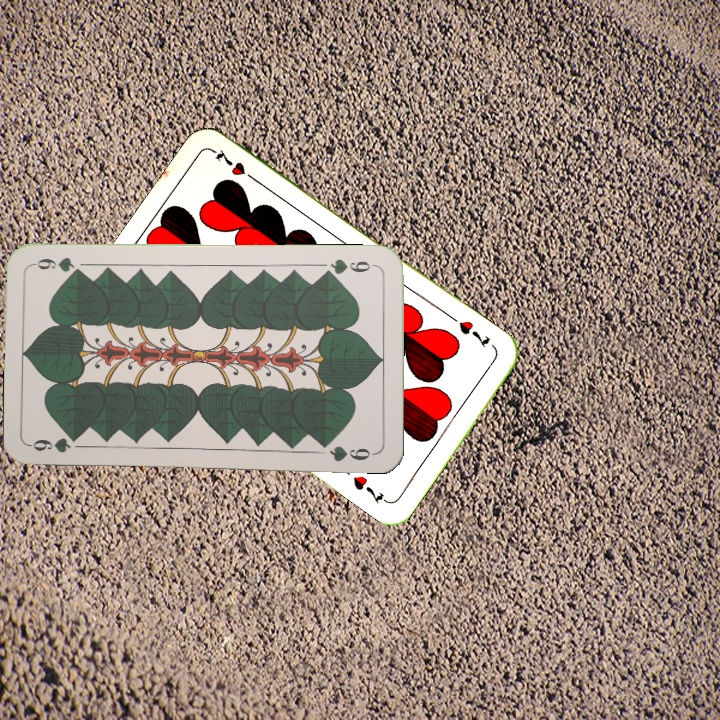G9: (319, 254, 378, 278), (28, 435, 73, 456)
H7: (454, 316, 493, 349)
